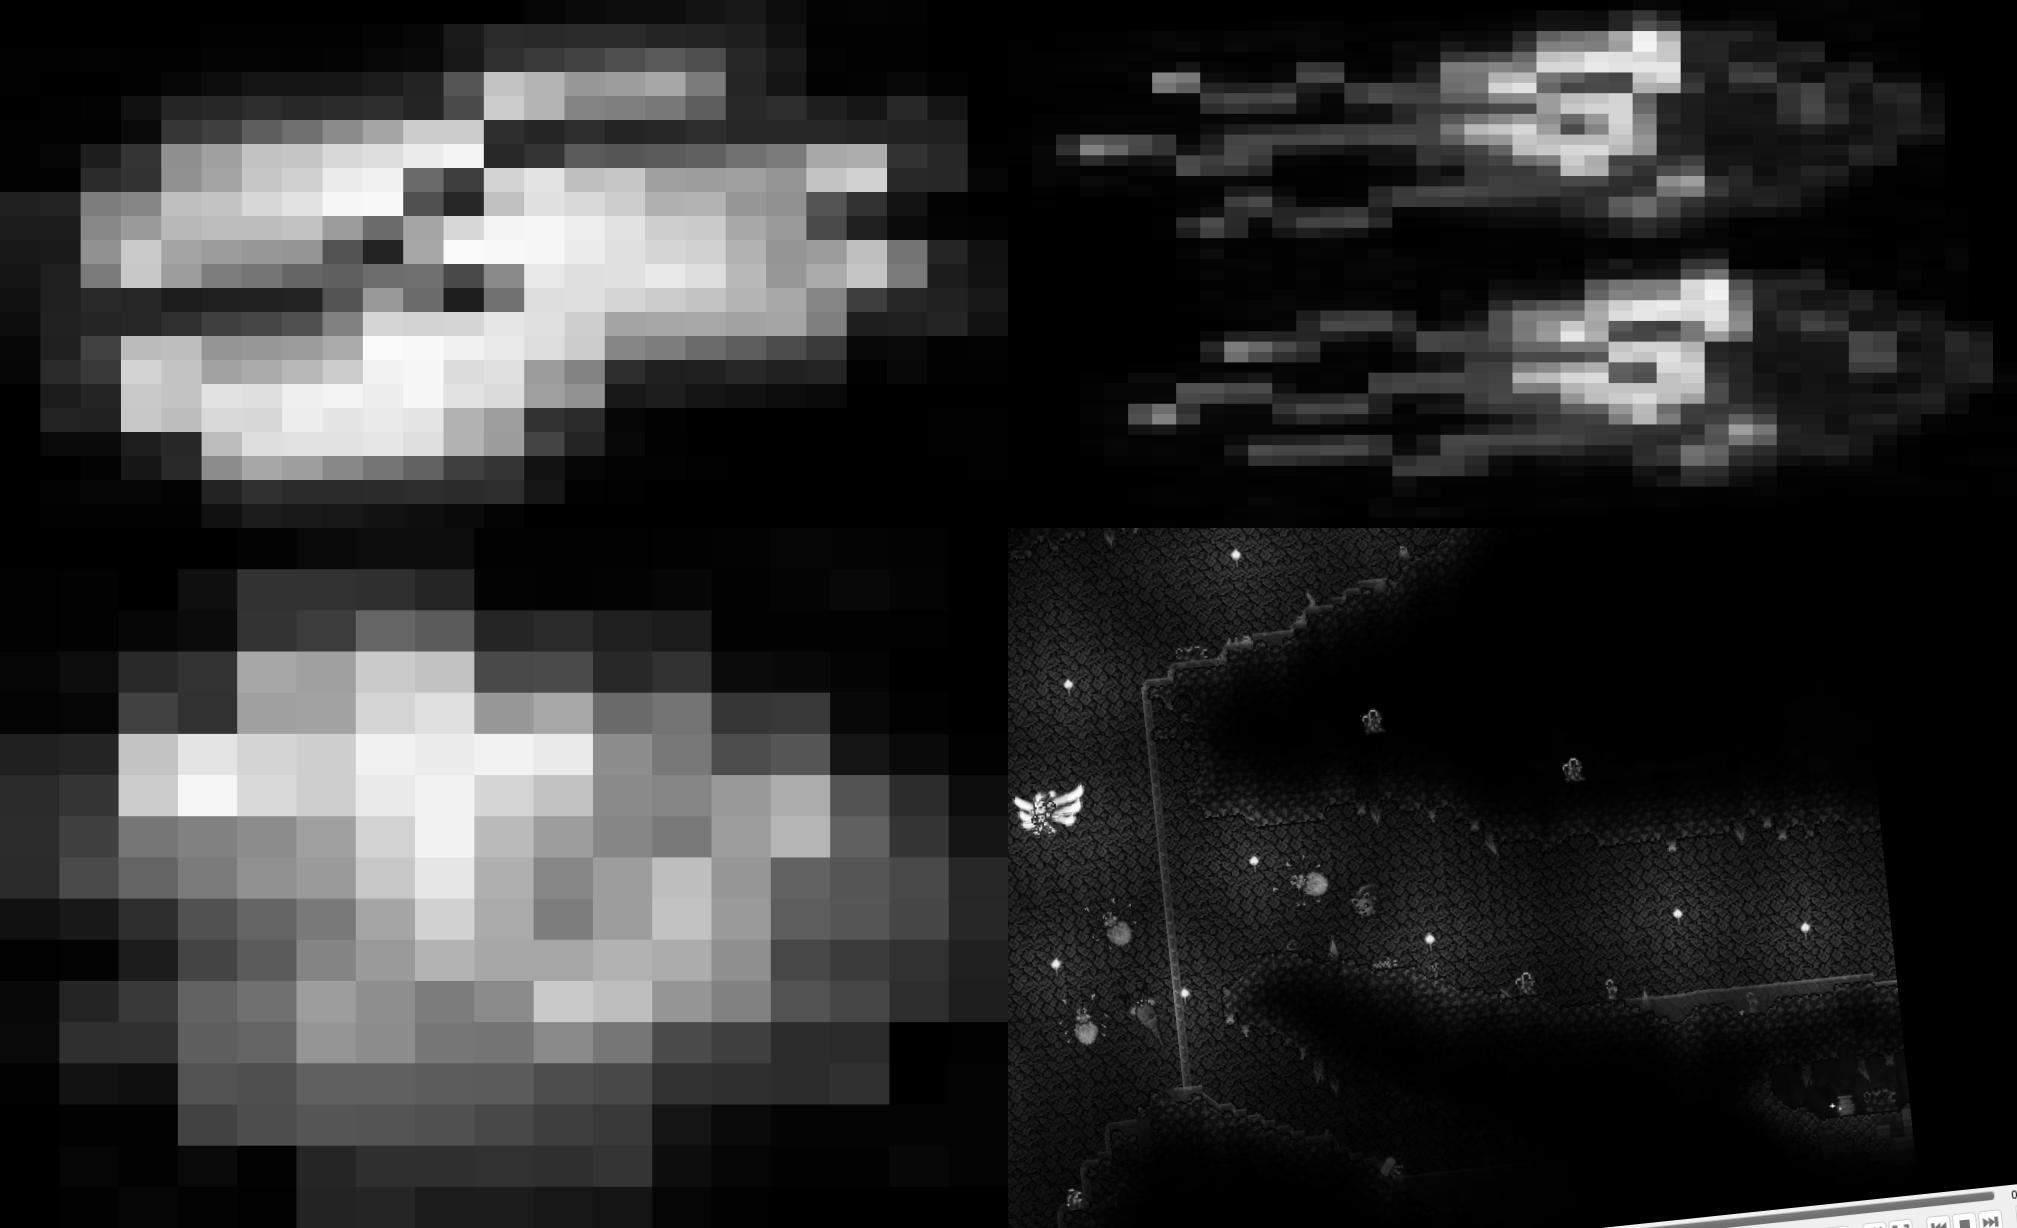eye: (1008, 0, 1945, 259)
helmet: (0, 0, 1008, 528)
ore: (0, 528, 1008, 1228)
spider: (1052, 987, 1111, 1049)
